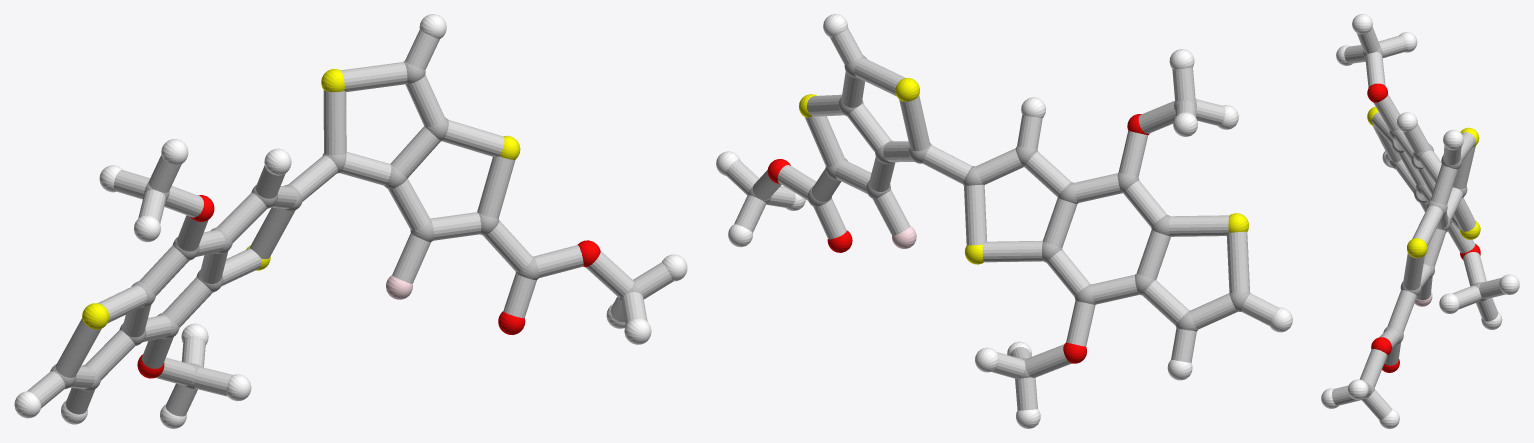
Rendered from color.glb.
The picture shows the model from 3 angles, left to right: view 1: azimuth 30°, elevation 25°; view 2: azimuth 150°, elevation 25°; view 3: azimuth 270°, elevation 25°; orthographic projection. The views are drawn at different scales.
Visible parts, largest first — view 1: grp15205, grp8689, grp1, grp7241, grp13395; view 2: grp15205, grp8689, grp1, grp7241, grp13395; view 3: grp15205, grp8689, grp1, grp13395, grp7241.
Boxes of the visible parts, x1=… form: grp15205: x1=27, y1=29, x2=673, y2=416; grp8689: x1=14, y1=14, x2=687, y2=428; grp1: x1=50, y1=61, x2=640, y2=391; grp7241: x1=82, y1=69, x2=520, y2=329; grp13395: x1=137, y1=195, x2=600, y2=378; grp15205: x1=725, y1=28, x2=1278, y2=410; grp8689: x1=716, y1=14, x2=1292, y2=428; grp1: x1=748, y1=55, x2=1250, y2=378; grp7241: x1=799, y1=78, x2=1248, y2=264; grp13395: x1=767, y1=114, x2=1149, y2=363; grp15205: x1=1332, y1=27, x2=1505, y2=420; grp8689: x1=1321, y1=14, x2=1519, y2=428; grp1: x1=1360, y1=46, x2=1486, y2=400; grp13395: x1=1367, y1=83, x2=1480, y2=372; grp7241: x1=1367, y1=106, x2=1480, y2=258.
Size of the model in its own units: 16.49 by 9.1 by 5.72.
